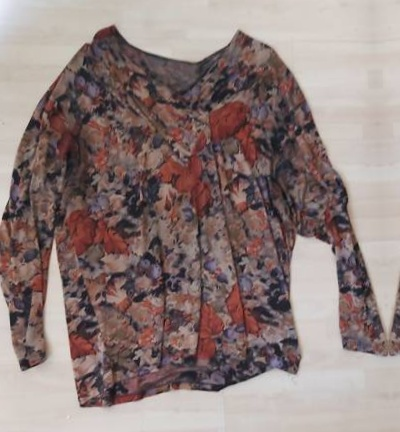Blouse: (0, 8, 389, 421), (375, 0, 400, 402)
